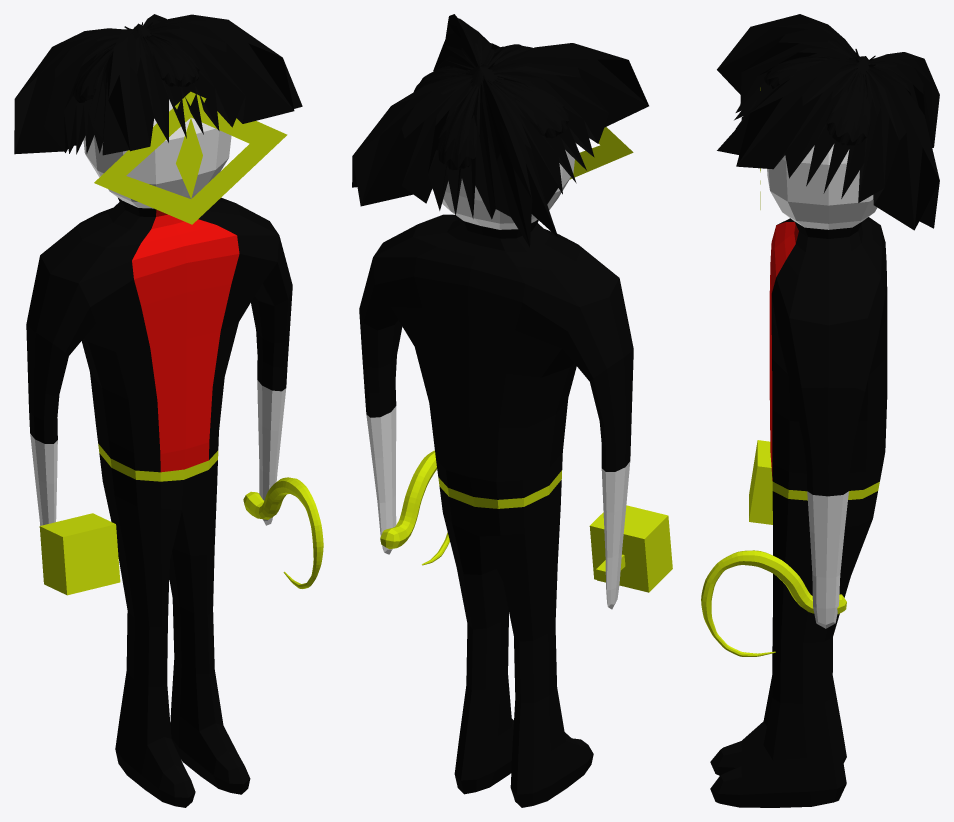
The model's file is Камунист.fbx.
The picture shows the model from 3 angles, left to right: view 1: azimuth 30°, elevation 25°; view 2: azimuth 150°, elevation 25°; view 3: azimuth 270°, elevation 25°; orthographic projection. The views are drawn at different scales.
Parts seen in each view (by area): view 1: Cube; view 2: Cube; view 3: Cube.
Boxes of the visible parts, bbox=[...] form: Cube: bbox=[14, 14, 323, 807]; Cube: bbox=[352, 14, 672, 807]; Cube: bbox=[701, 14, 939, 807].
Bounding box in the file's own units: 155 × 431 × 124.
